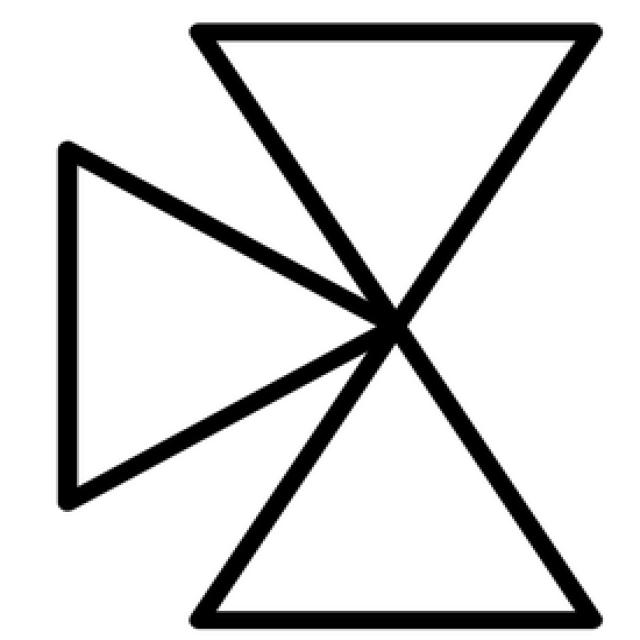3-way Valve: (189, 325, 591, 619), (198, 33, 590, 325), (61, 154, 388, 501)
